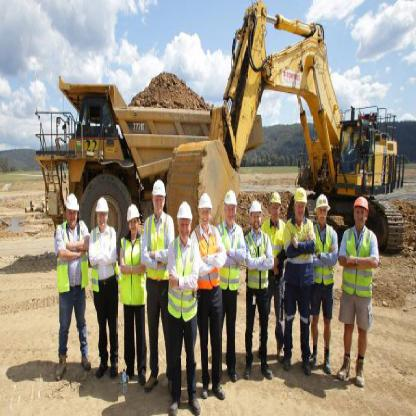dump_truck: (32, 59, 248, 234)
excavator: (168, 3, 416, 254)
person: (336, 181, 378, 386), (52, 190, 92, 386), (84, 191, 121, 393), (165, 198, 200, 410), (195, 188, 226, 412), (282, 175, 314, 375), (244, 189, 274, 385), (118, 193, 147, 390), (144, 172, 168, 399), (311, 189, 336, 372), (218, 183, 240, 385), (268, 185, 284, 230)
